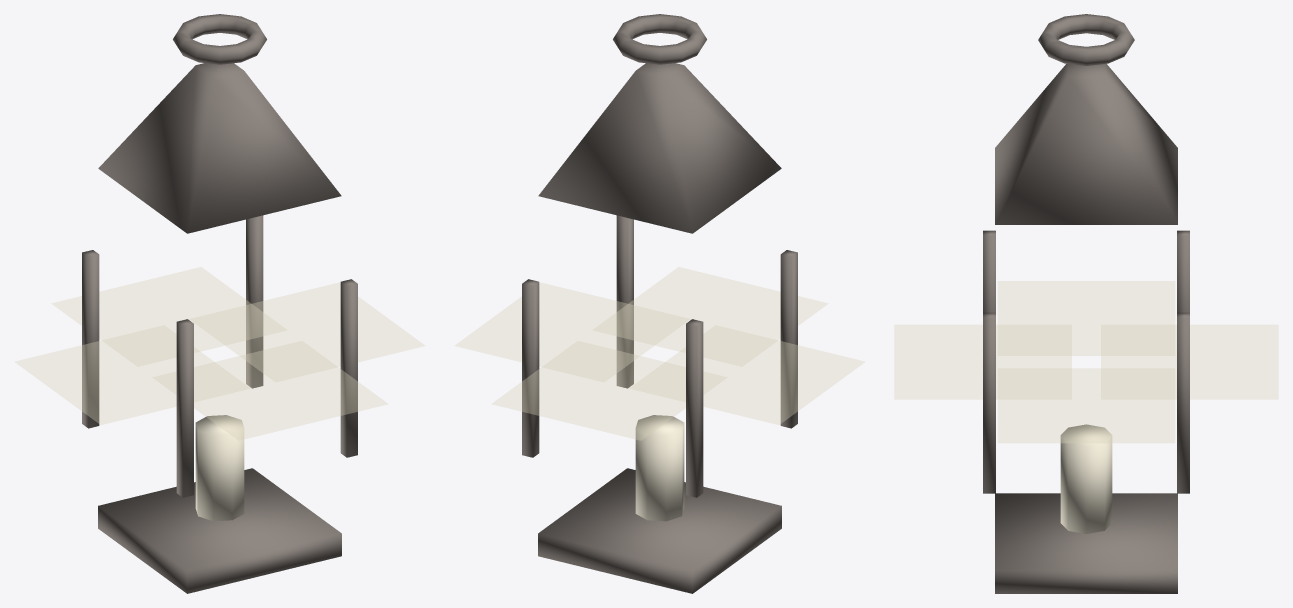
File: oil_lantern.glb
The picture shows the model from 3 angles, left to right: view 1: azimuth 30°, elevation 25°; view 2: azimuth 150°, elevation 25°; view 3: azimuth 270°, elevation 25°; orthographic projection. The views are drawn at different scales.
Parts seen in each view (by area): view 1: oil_lantern; view 2: oil_lantern; view 3: oil_lantern.
Boxes of the visible parts, x1=… form: oil_lantern: x1=15, y1=14, x2=424, y2=593; oil_lantern: x1=455, y1=14, x2=864, y2=593; oil_lantern: x1=894, y1=14, x2=1278, y2=593.
Bounding box in the file's own units: 0.119 × 0.1786 × 0.119.
